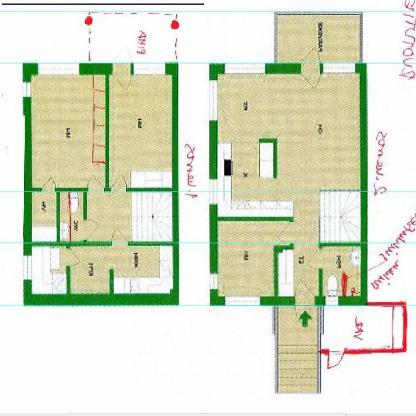door: (326, 347, 347, 371), (294, 280, 317, 299), (83, 216, 100, 241), (306, 247, 324, 270), (302, 72, 323, 90), (109, 176, 130, 193), (112, 228, 129, 248), (300, 47, 322, 62), (86, 176, 104, 193), (113, 74, 133, 89), (42, 177, 58, 193), (70, 249, 81, 266)
window: (224, 62, 265, 76), (38, 63, 80, 75), (208, 80, 219, 121), (224, 296, 260, 306), (324, 63, 353, 74), (134, 64, 165, 74), (22, 80, 32, 99), (209, 178, 216, 204), (209, 272, 218, 291), (25, 257, 32, 278)
zone: (218, 76, 361, 297), (30, 75, 104, 190), (110, 79, 171, 192), (60, 190, 176, 242), (69, 246, 175, 293), (277, 13, 359, 63), (275, 305, 321, 390), (323, 306, 401, 347), (323, 248, 362, 298), (32, 246, 69, 292), (32, 191, 56, 242)
